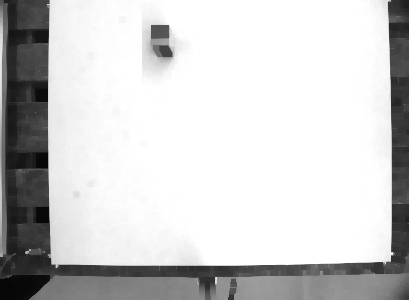b3: (148, 22, 177, 59)
